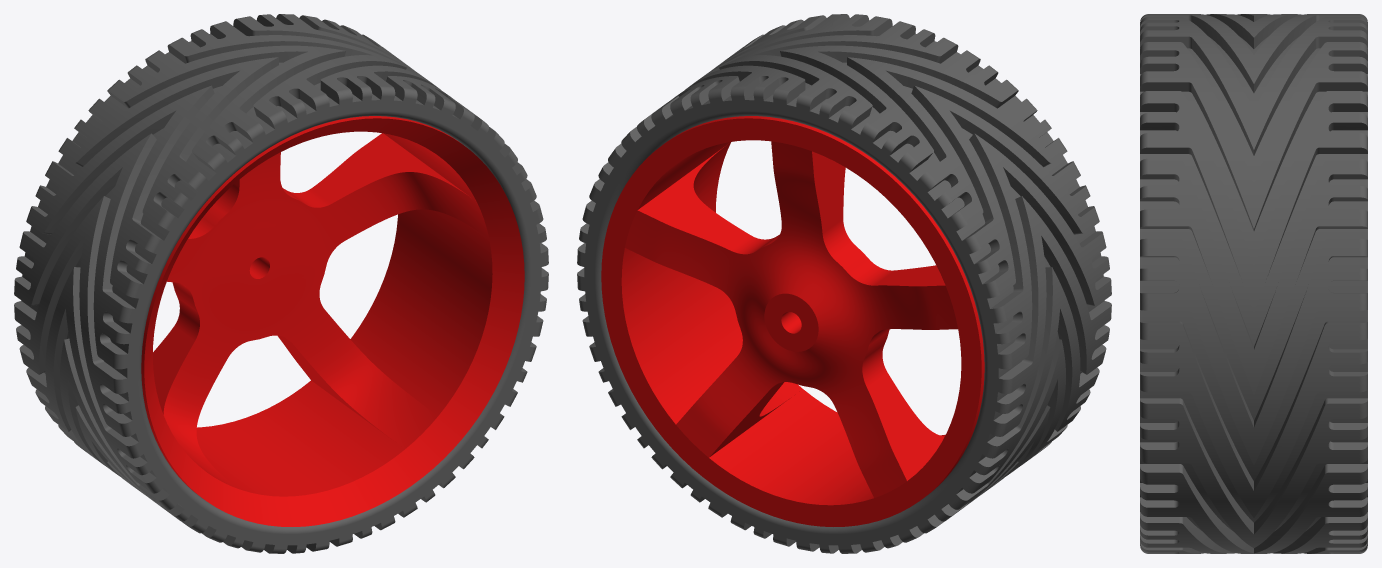
File: assembly_wheel_L_front.dae
The picture shows the model from 3 angles, left to right: view 1: azimuth 30°, elevation 25°; view 2: azimuth 150°, elevation 25°; view 3: azimuth 270°, elevation 25°; orthographic projection. The views are drawn at different scales.
Visible parts, largest first — view 1: assembly_wheel_L_front; view 2: assembly_wheel_L_front; view 3: assembly_wheel_L_front.
Boxes of the visible parts, x1,y1,x2,y2 form: assembly_wheel_L_front: (14, 14, 548, 553); assembly_wheel_L_front: (577, 14, 1111, 553); assembly_wheel_L_front: (1140, 14, 1367, 553).
Size of the model in its own units: 0.064 by 0.027 by 0.064.
